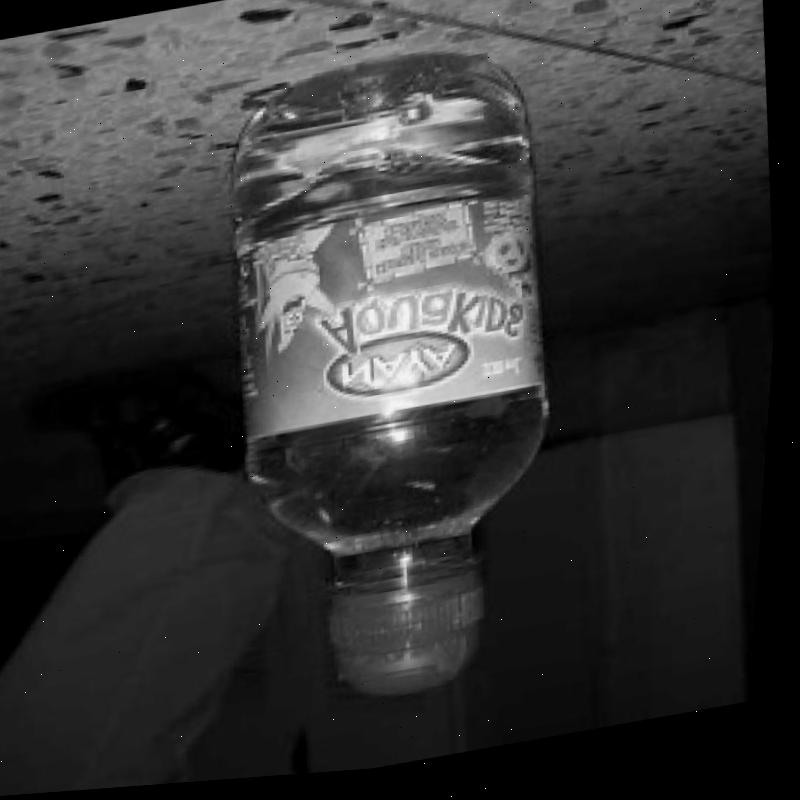botella: (184, 32, 610, 735)
